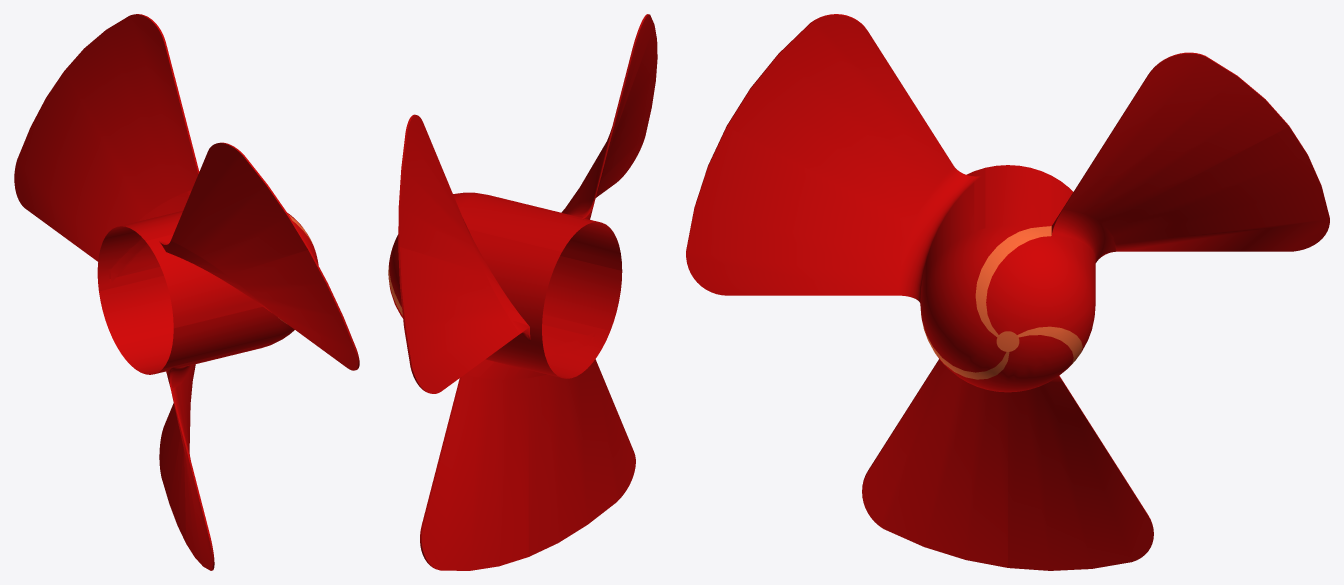
Rendered from propeller_destroyed.dae.
The picture shows the model from 3 angles, left to right: view 1: azimuth 30°, elevation 25°; view 2: azimuth 150°, elevation 25°; view 3: azimuth 270°, elevation 25°; orthographic projection. The views are drawn at different scales.
Visible parts, largest first — view 1: Layer0_001; view 2: Layer0_001; view 3: Layer0_001.
Part boxes in pixels (x1=…): Layer0_001: x1=14, y1=14, x2=359, y2=570; Layer0_001: x1=388, y1=14, x2=657, y2=570; Layer0_001: x1=686, y1=14, x2=1329, y2=570.
Bounding box in the file's own units: 83.87 × 214 × 234.
